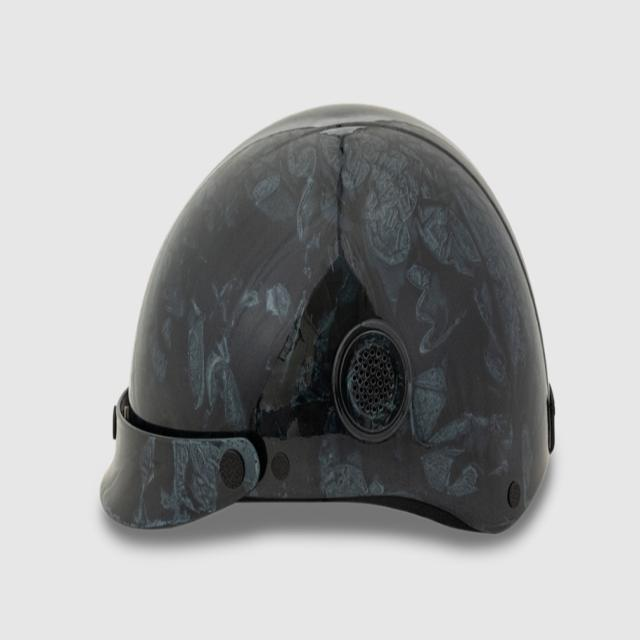Helmet: (97, 99, 558, 539)
